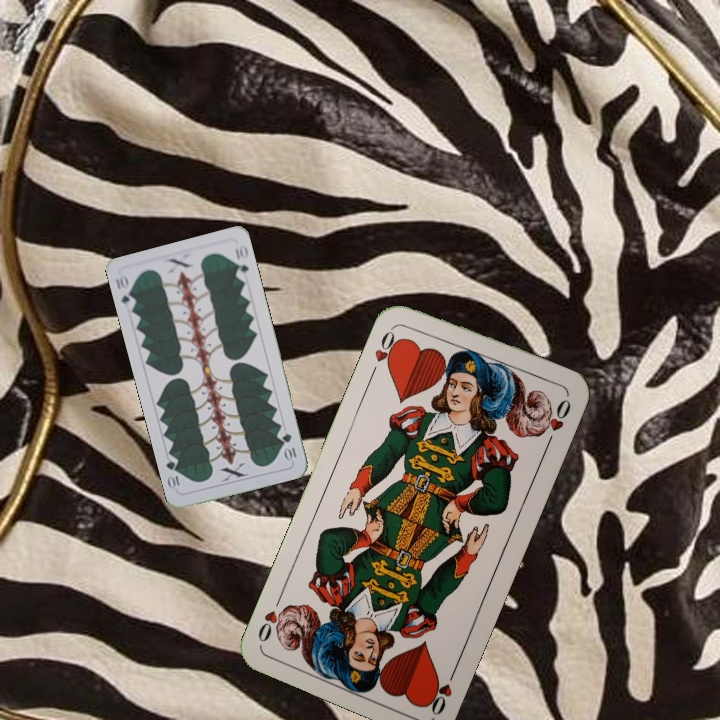G10: (111, 272, 138, 312), (278, 429, 299, 463)
HO: (422, 662, 460, 718), (367, 322, 404, 378)
